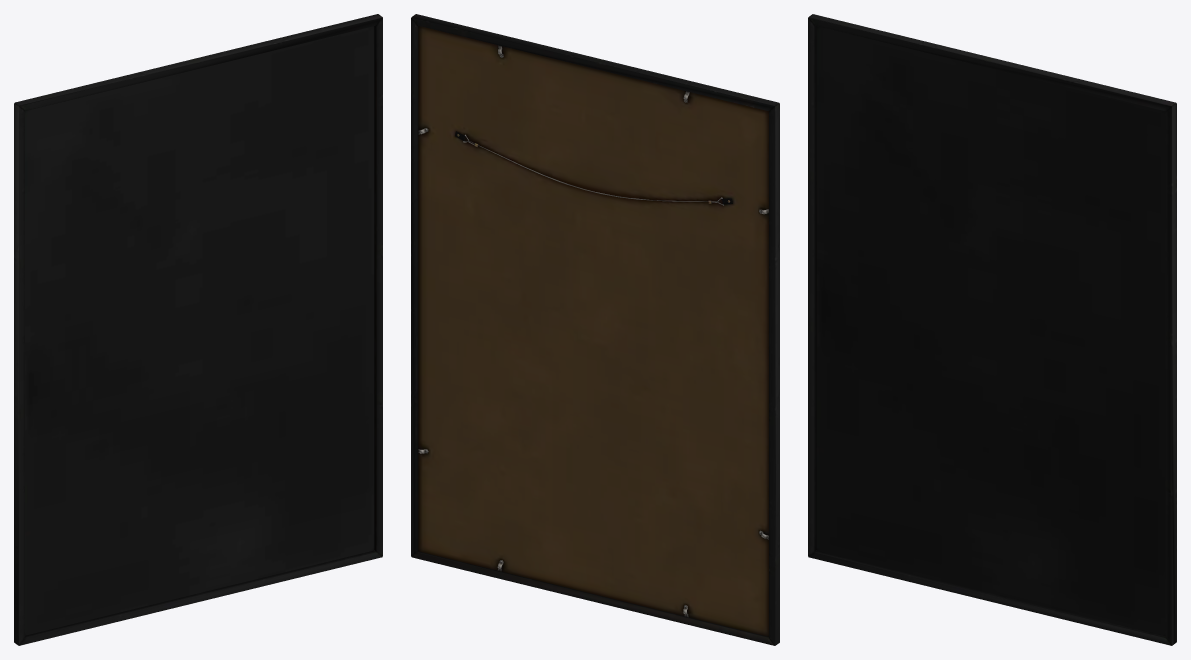
The model's file is hanging_picture_frame_01.glb.
The picture shows the model from 3 angles, left to right: view 1: azimuth 30°, elevation 25°; view 2: azimuth 150°, elevation 25°; view 3: azimuth 330°, elevation 25°; orthographic projection.
Visible parts, largest first — view 1: hanging_picture_frame_01; view 2: hanging_picture_frame_01; view 3: hanging_picture_frame_01.
Part boxes in pixels (x1,y1,x2,y2): hanging_picture_frame_01: (14,14,382,645); hanging_picture_frame_01: (411,14,779,645); hanging_picture_frame_01: (808,14,1176,645).
Size of the model in its own units: 0.5939 by 0.841 by 0.0154.
Materials: 3 (3 with a texture image).
